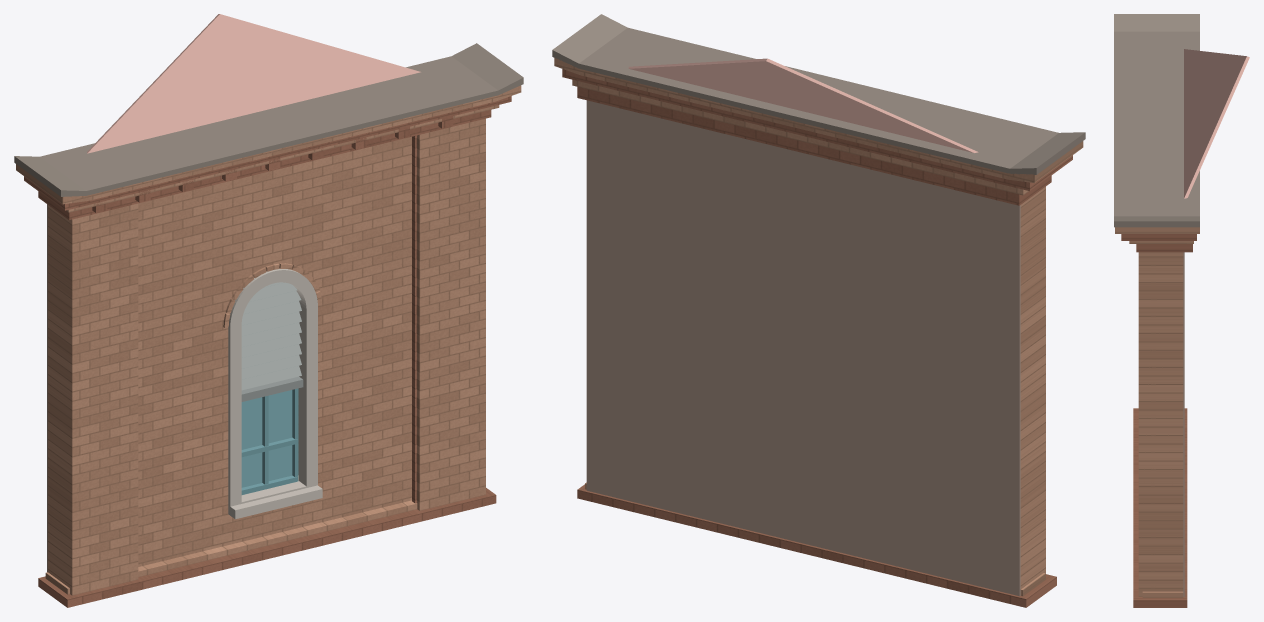
File: water-tower-crown-near.glb
3 views of the same model, side by side, from view 1: azimuth 30°, elevation 25°; view 2: azimuth 150°, elevation 25°; view 3: azimuth 270°, elevation 25° (orthographic). The views are drawn at different scales.
Visible parts, largest first — view 1: 美童公学水塔顶层砖券窗与挑檐; view 2: 美童公学水塔顶层砖券窗与挑檐; view 3: 美童公学水塔顶层砖券窗与挑檐.
Boxes of the visible parts, box(x1,y1,x2,y2) form: 美童公学水塔顶层砖券窗与挑檐: box(14, 14, 523, 607); 美童公学水塔顶层砖券窗与挑檐: box(552, 14, 1085, 607); 美童公学水塔顶层砖券窗与挑檐: box(1114, 14, 1249, 607).
Size of the model in its own units: 4.92 by 5.05 by 1.36.
10 materials, 2 textured.
